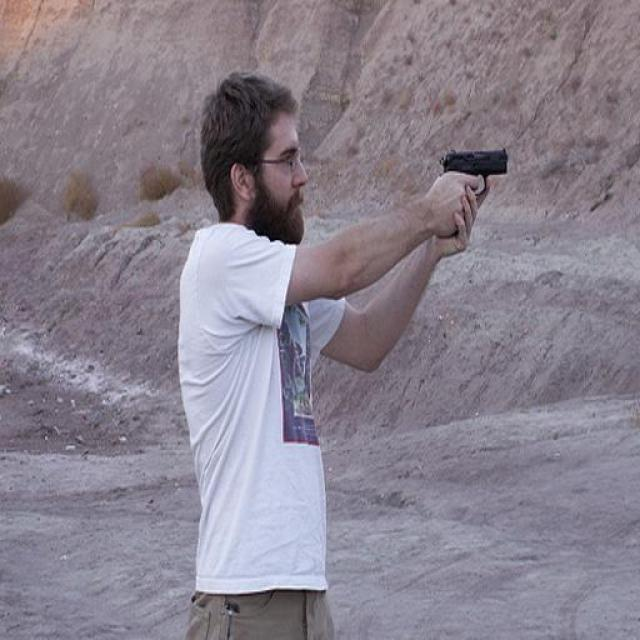pistol: (436, 147, 507, 197)
